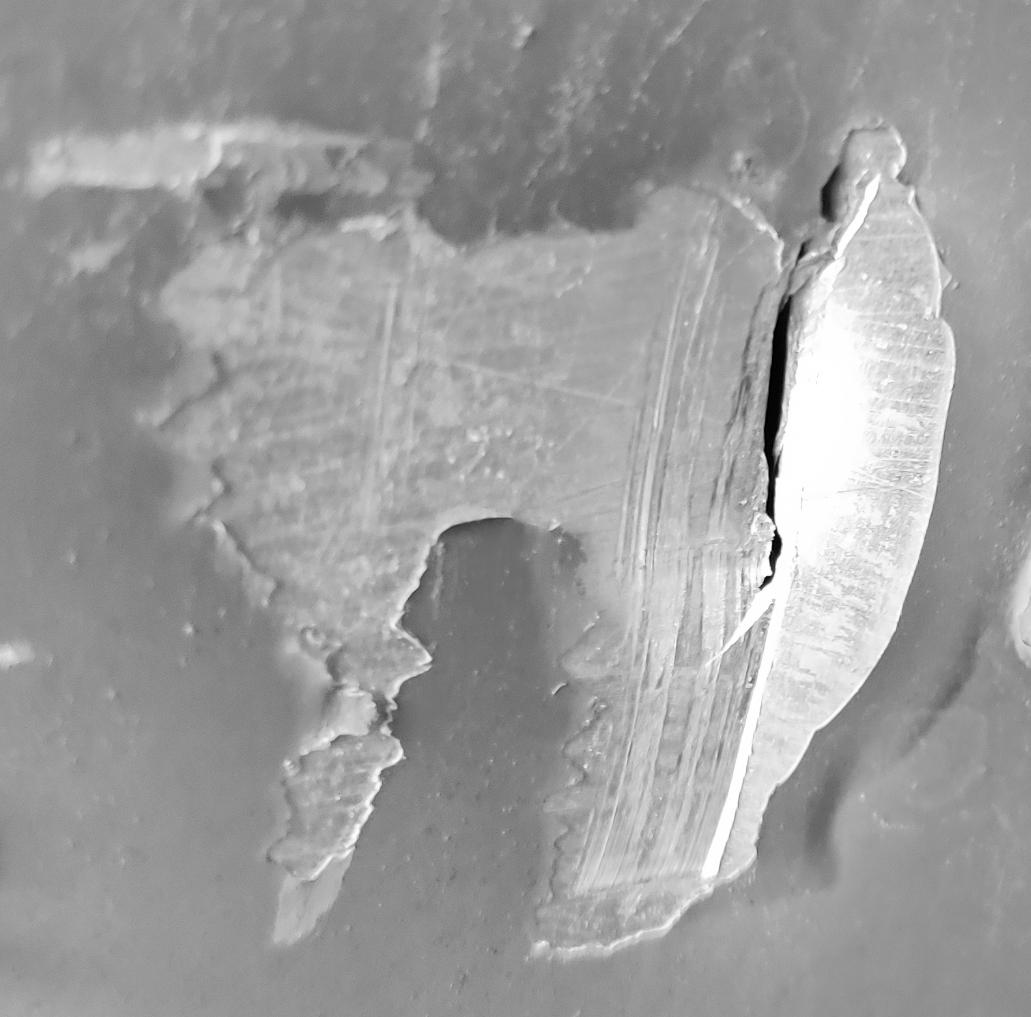paint-off: (1, 0, 1031, 1017)
